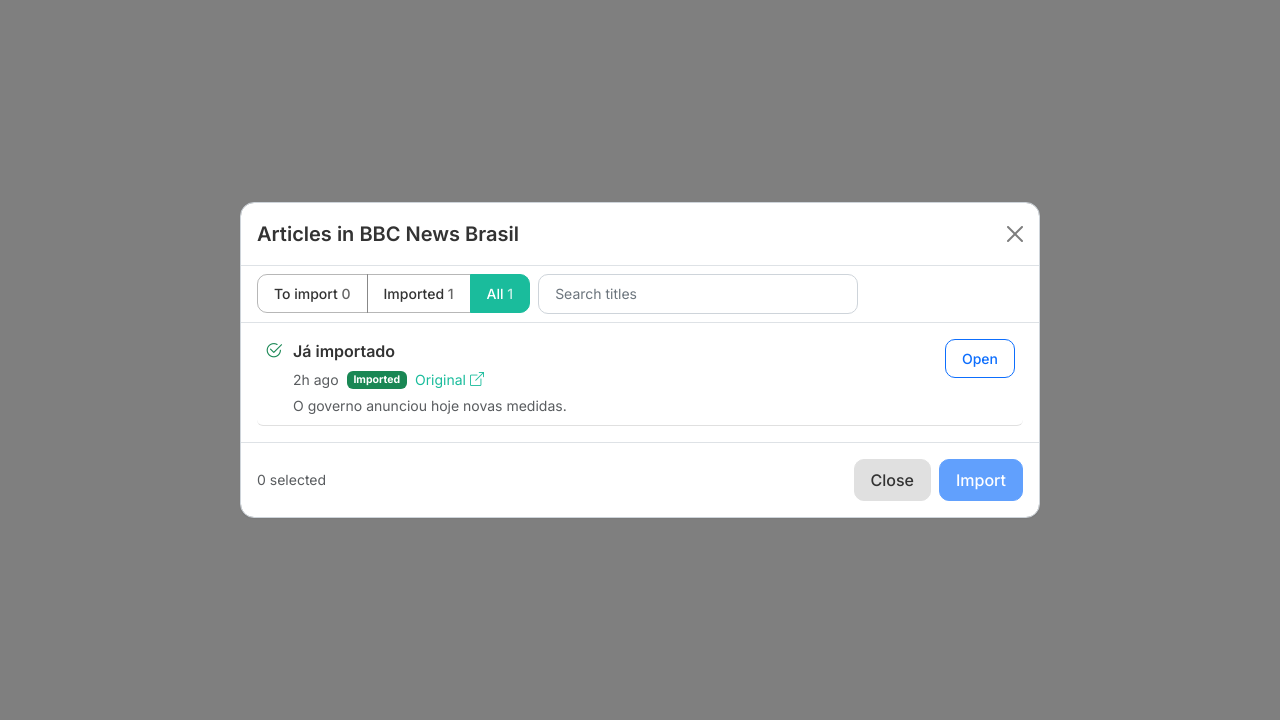
Test case: NewsFeedBrowser › opens on all articles when everything is imported already
The image size is (1280, 720).
Expected: the text "Já importado" is shown, [293, 341, 395, 361]
Click the button "To import 0": (312, 294) [257, 274, 368, 313]
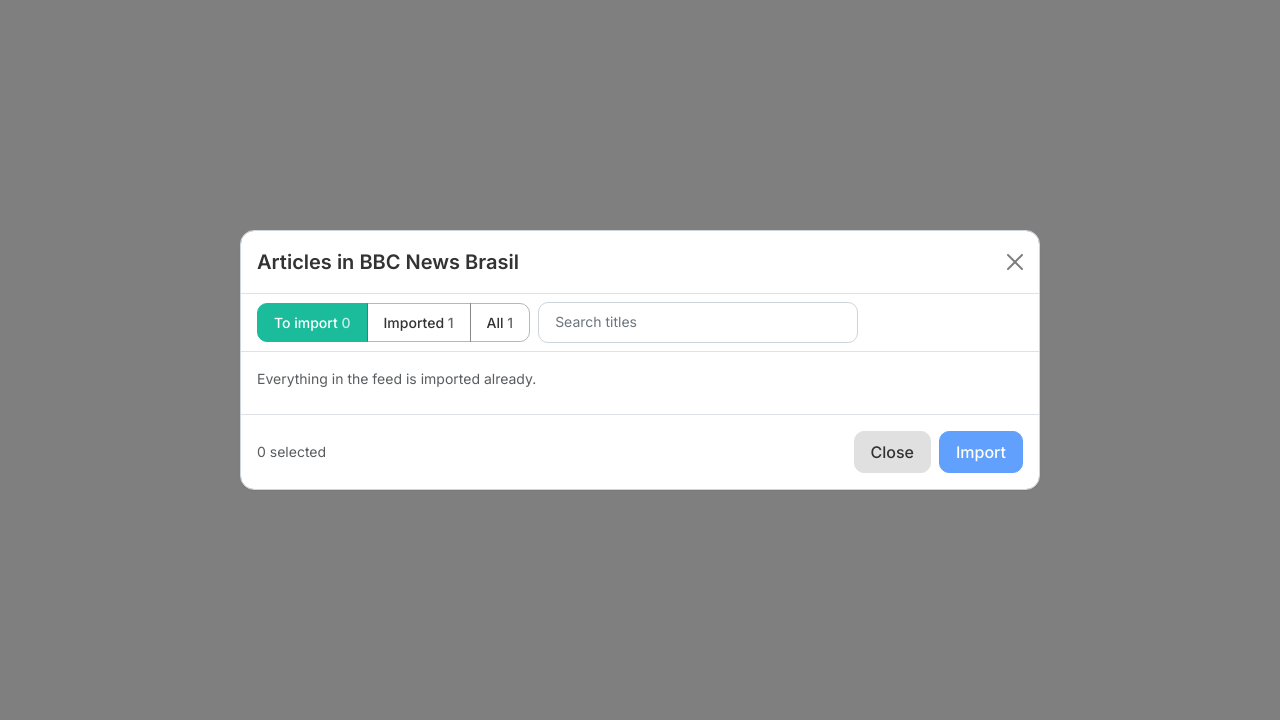
Expected: the text "Everything in the feed is imported already." is shown, [257, 370, 536, 386]
